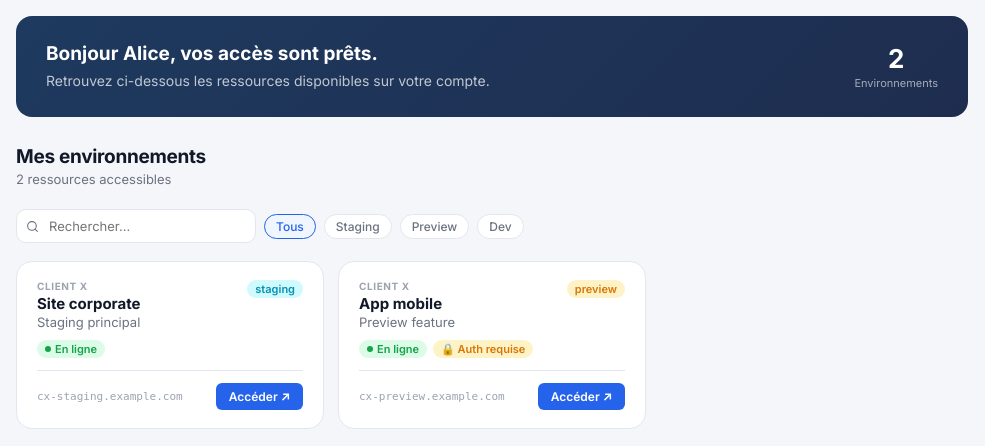
Test: PortalDashboard › filters by search input
In the field with placeholder "Rechercher…": {"x": 136, "y": 226} [16,209,256,243], type "App"
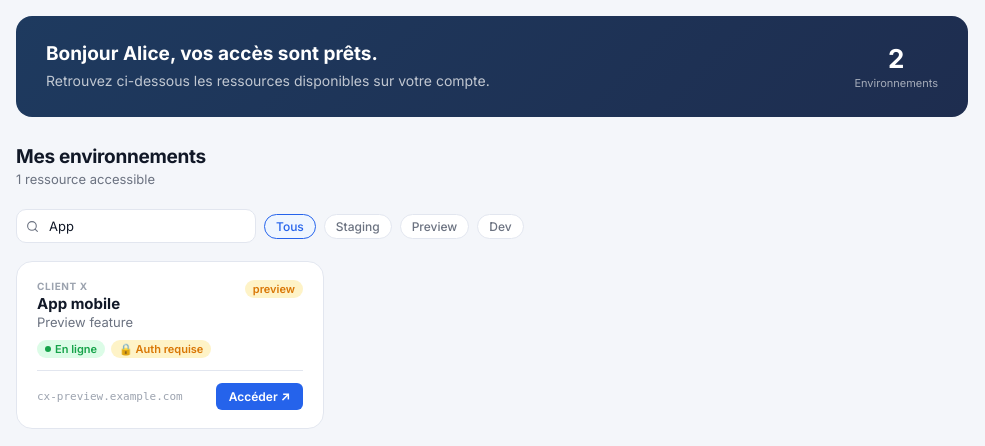
expect the text "Preview feature" is shown: met, box [37,314,133,330]
expect the link "Staging principal" is gone: met
